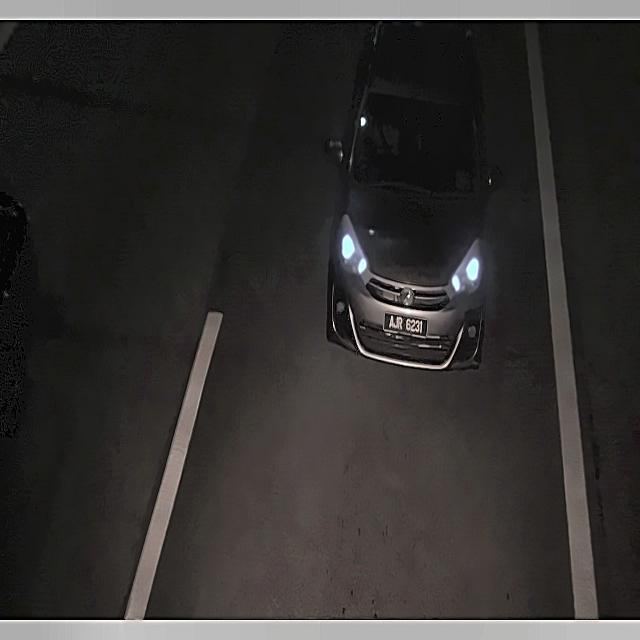car: (381, 298, 431, 347)
